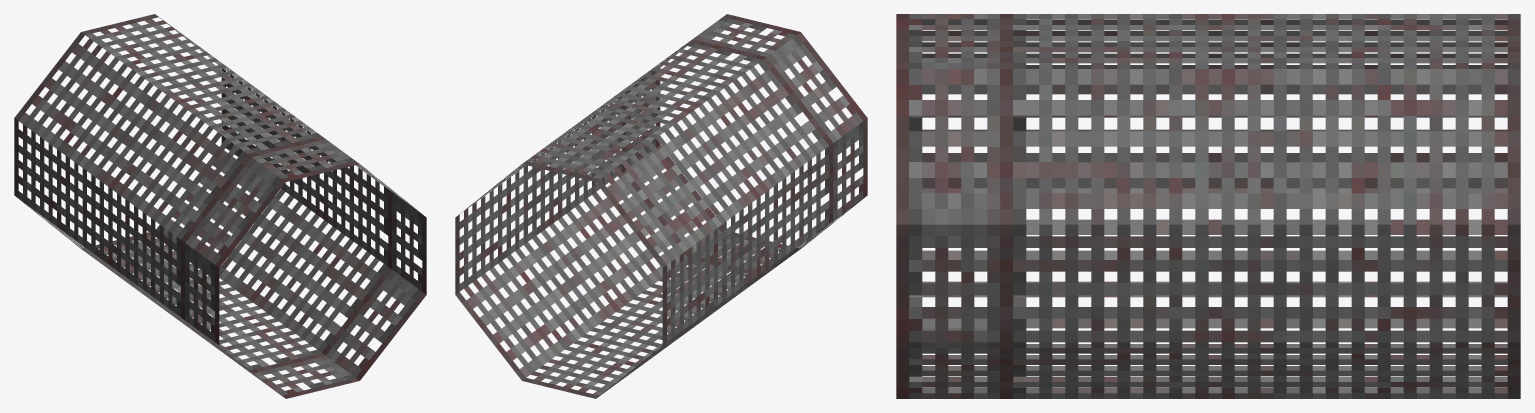
Rendered from large_trommel_mesh.obj.
3 renders of one model, left to right at view 1: azimuth 30°, elevation 25°; view 2: azimuth 150°, elevation 25°; view 3: azimuth 270°, elevation 25°, orthographic. The views are drawn at different scales.
Visible parts, largest first — view 1: cube; view 2: cube; view 3: cube.
Boxes of the visible parts, <box> form: cube: <box>14,14,426,398</box>; cube: <box>455,14,867,398</box>; cube: <box>896,14,1520,398</box>.
Bounding box in the file's own units: 1.75 × 1.75 × 3.
